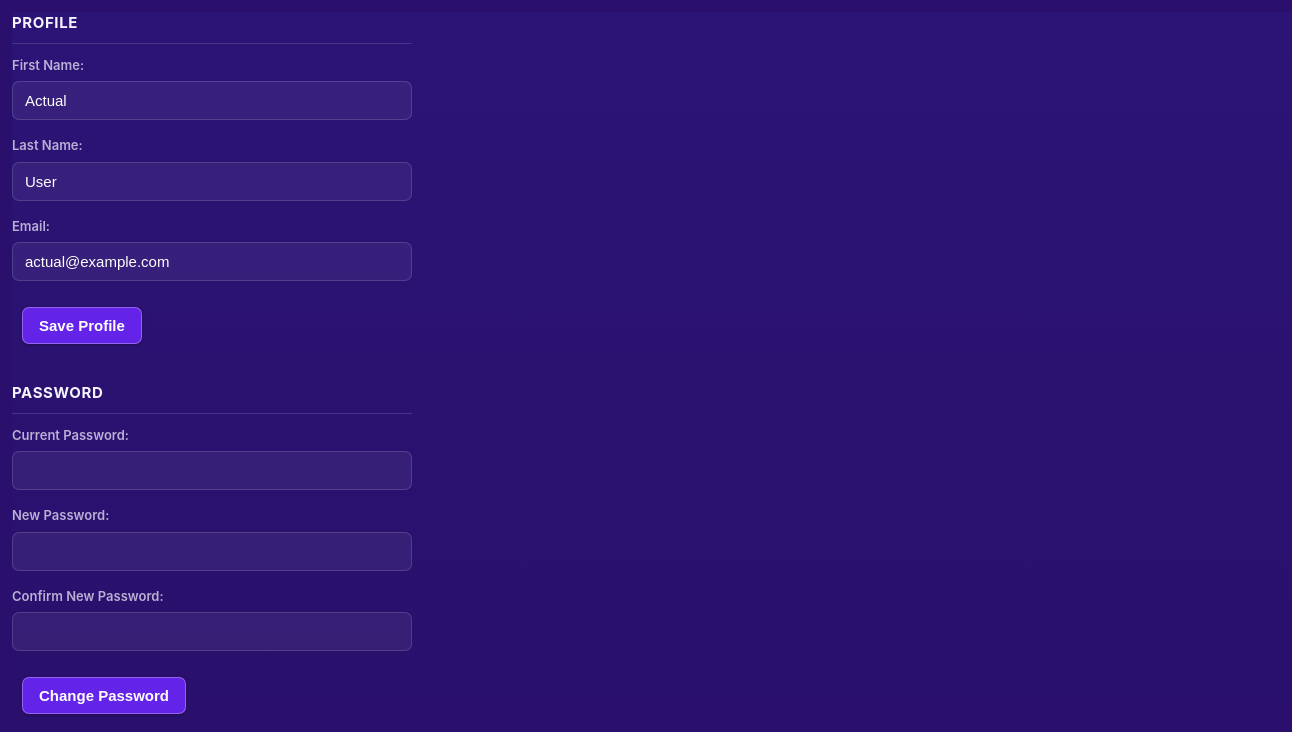
Test: SettingsPage › submits the updated profile and re-checks login so AuthContext picks up the new email
Step 1. Replace the text in the field showing "actual@example.com" with "new@example.com" → (212, 262), box x1=12 y1=242 x2=412 y2=281
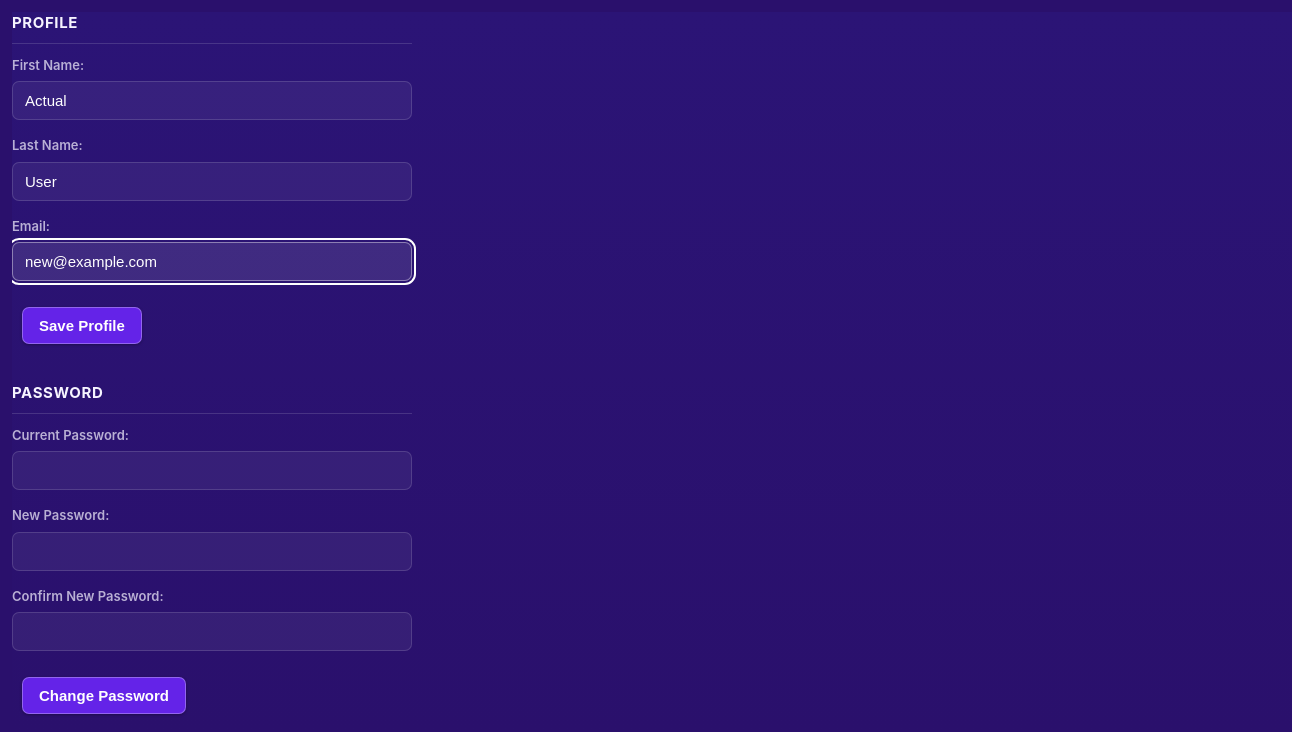
Step 2. Click the button "Save Profile" → (82, 326), box x1=22 y1=307 x2=142 y2=344
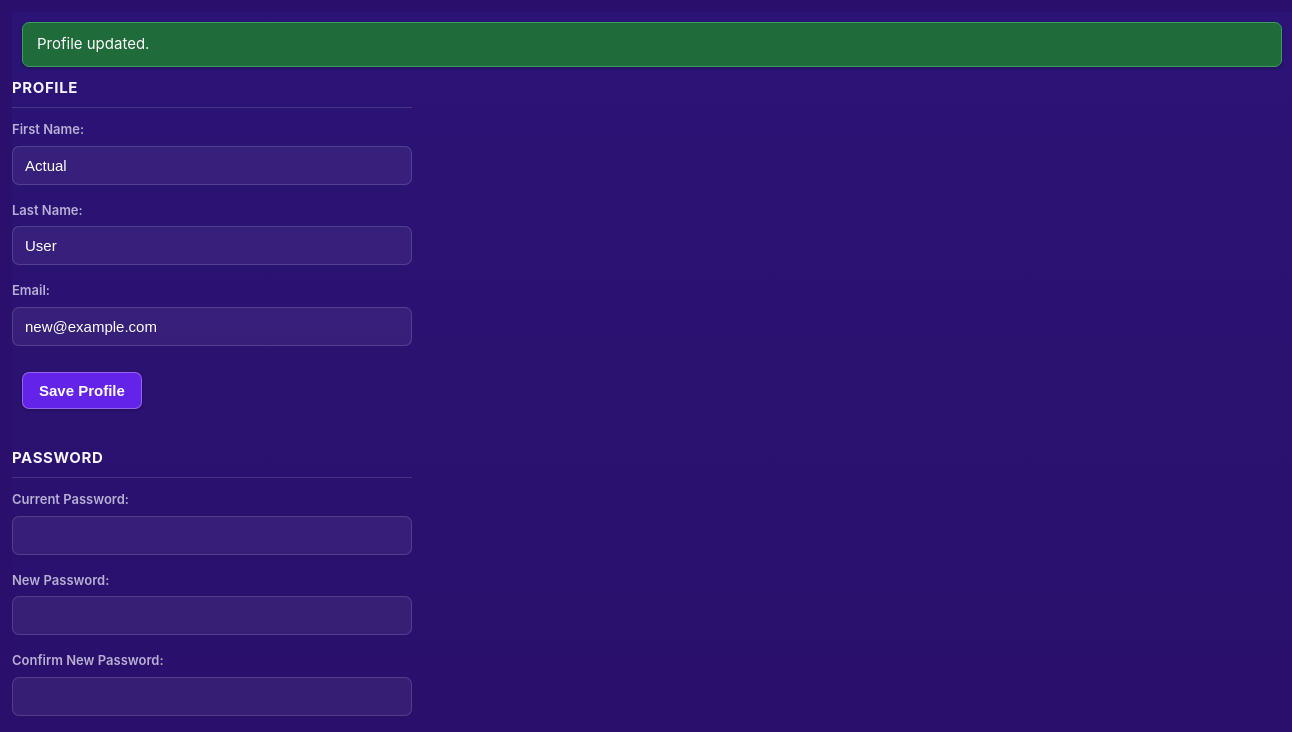
Expected: the text "Profile updated." is shown, x1=22 y1=22 x2=1282 y2=66
